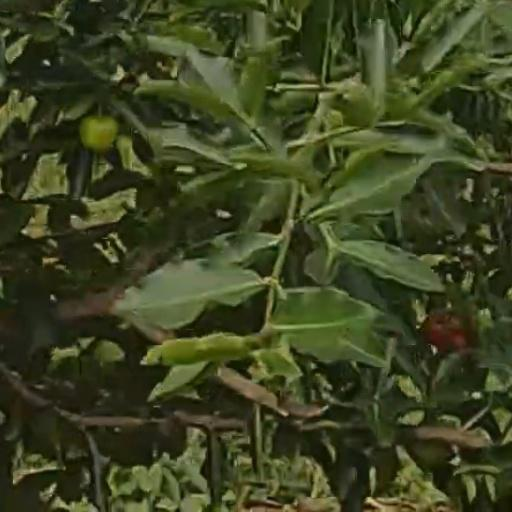acerola_verde: (78, 115, 118, 152)
acerola_vermelha: (422, 310, 463, 346)
